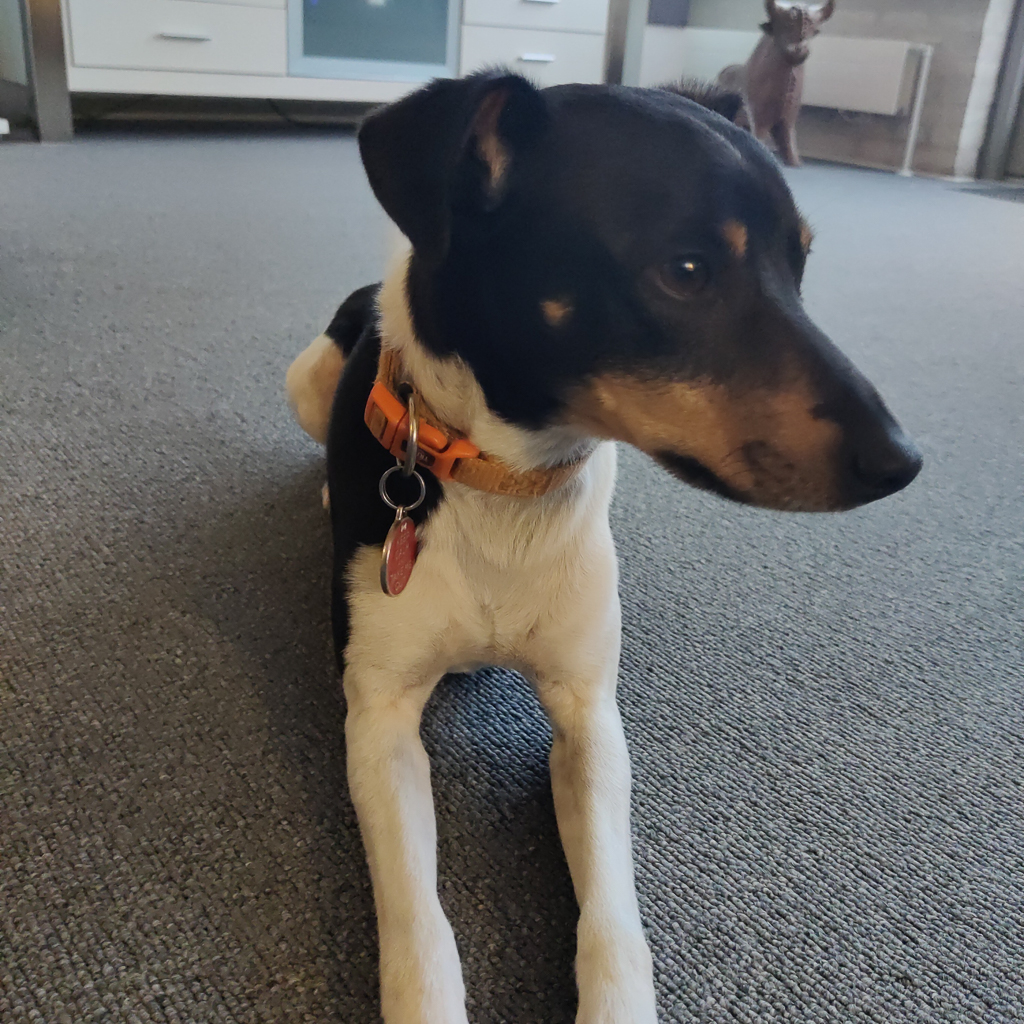Cattle: (693, 0, 843, 172)
Dog: (250, 46, 950, 1024)
